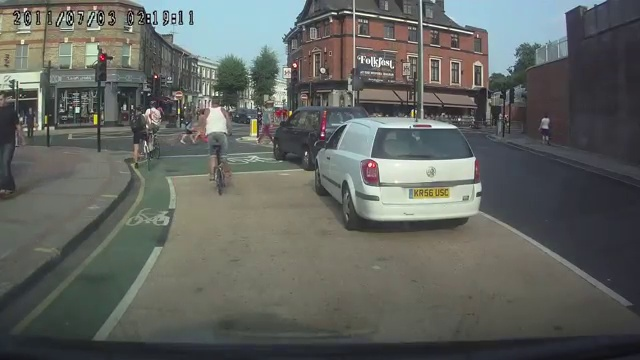cyclist_back: (202, 97, 237, 197), (132, 106, 153, 176), (149, 104, 162, 165)
